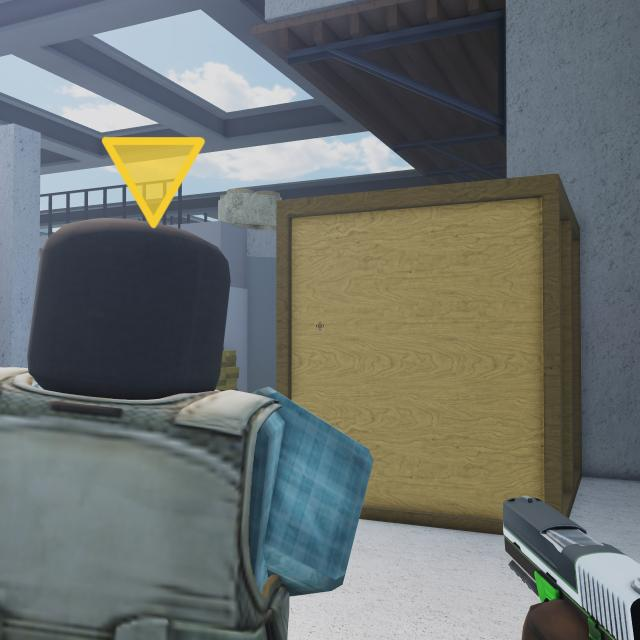Head: (36, 221, 233, 386)
Player: (1, 220, 374, 640)
